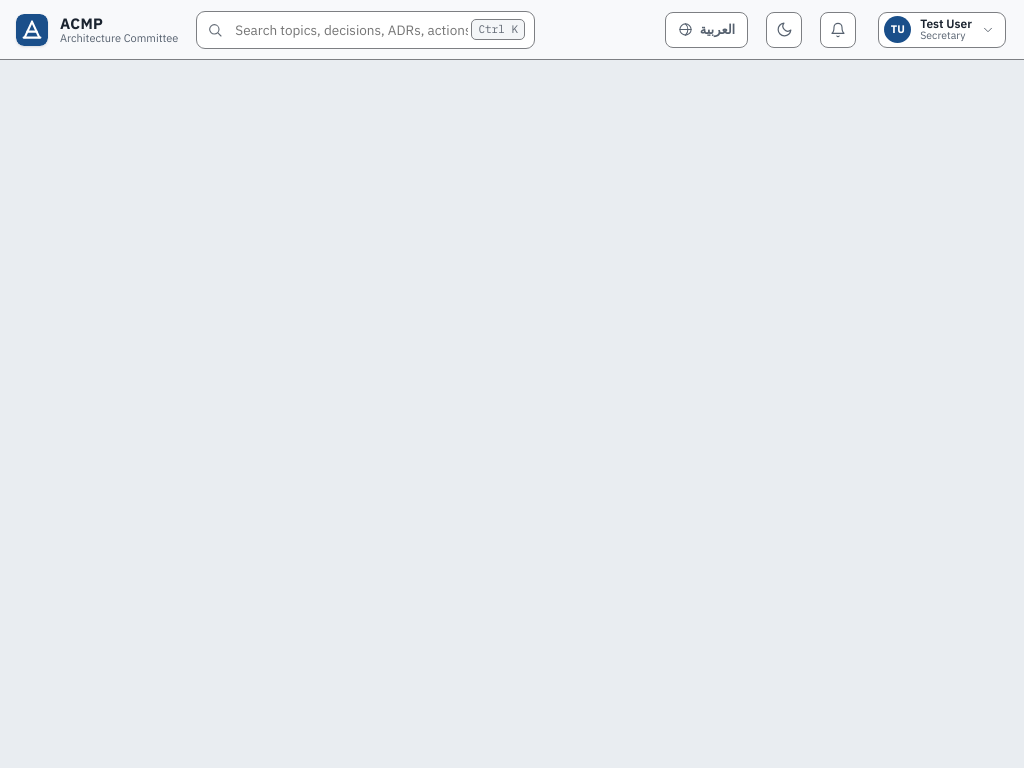
TopBar controls › opens the notification panel from the bell and closes it with Escape
The image size is (1024, 768).
Click the button named "notification" at (838, 30), box [820,12,856,48]
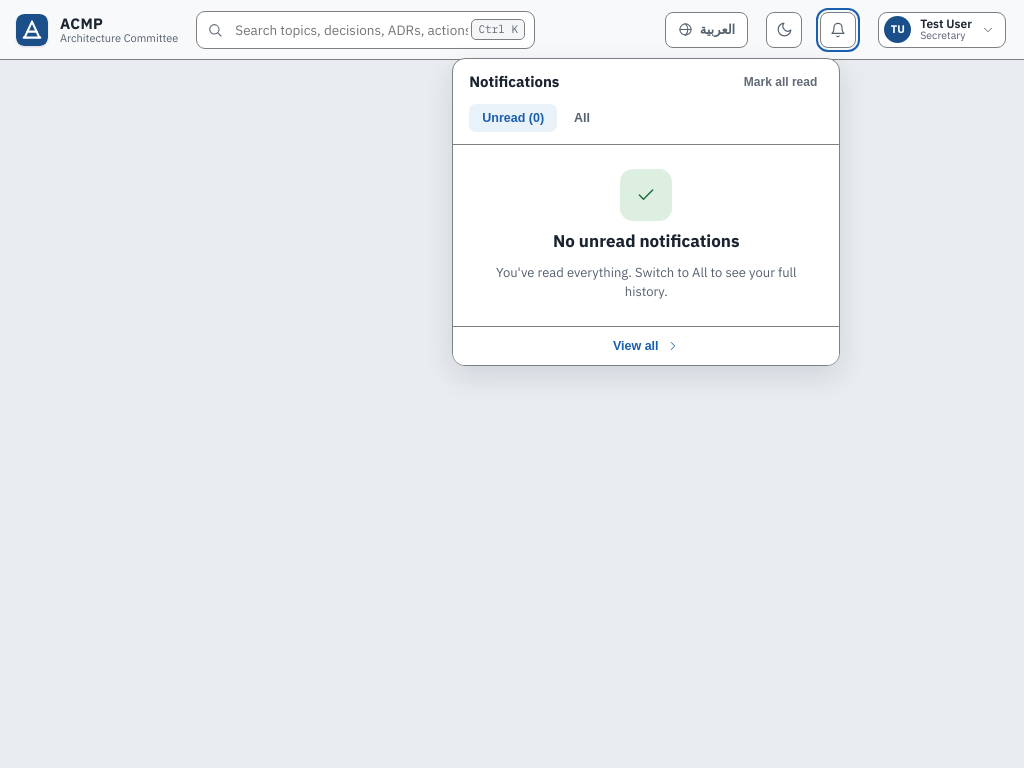
Press Escape
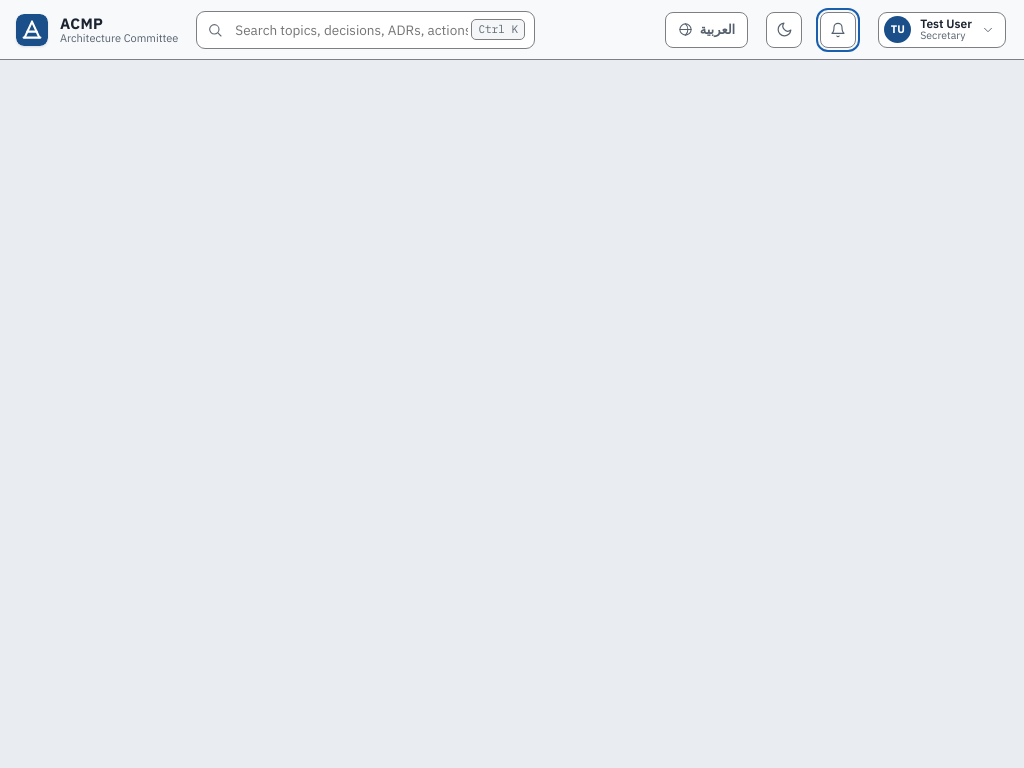
Now the dialog is gone
